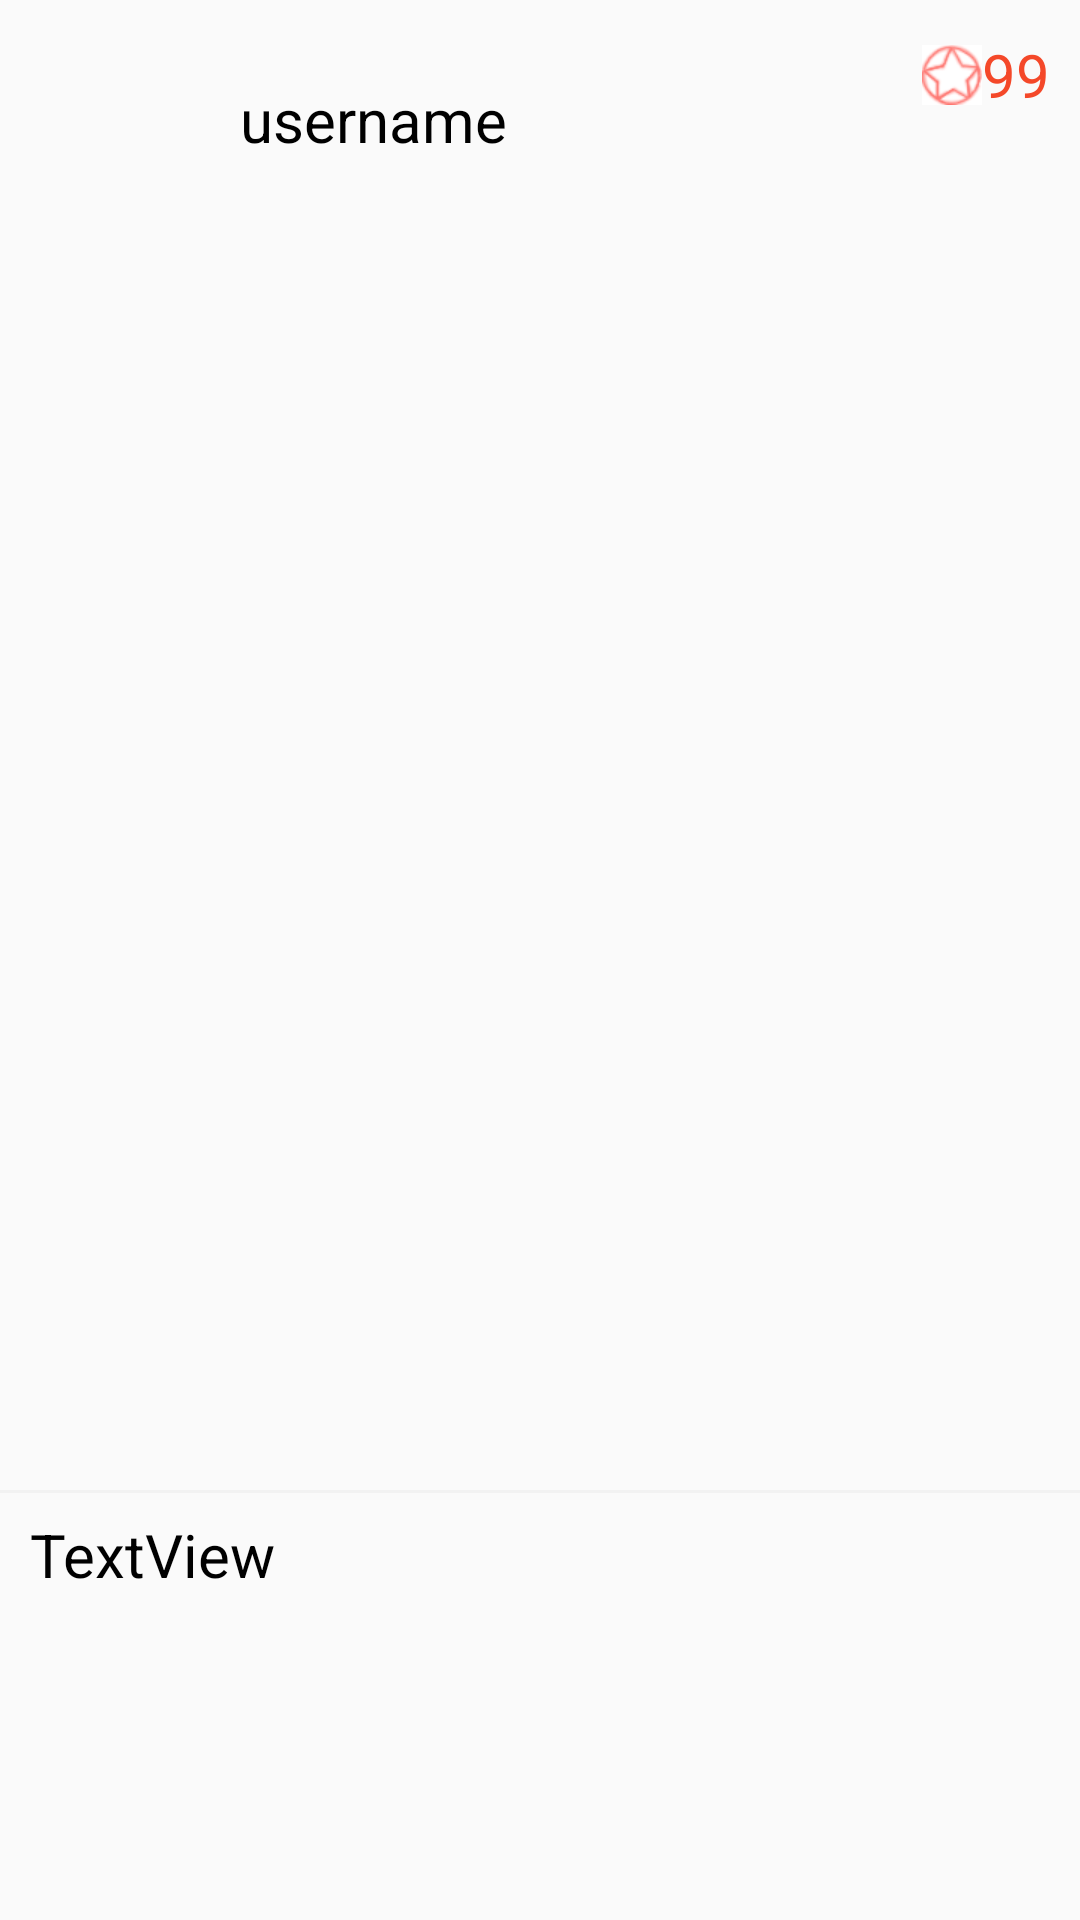

Where to tap for icons on this 1080w x 1920h app screen, as point (x, y):
jifen on: point (952, 75)
